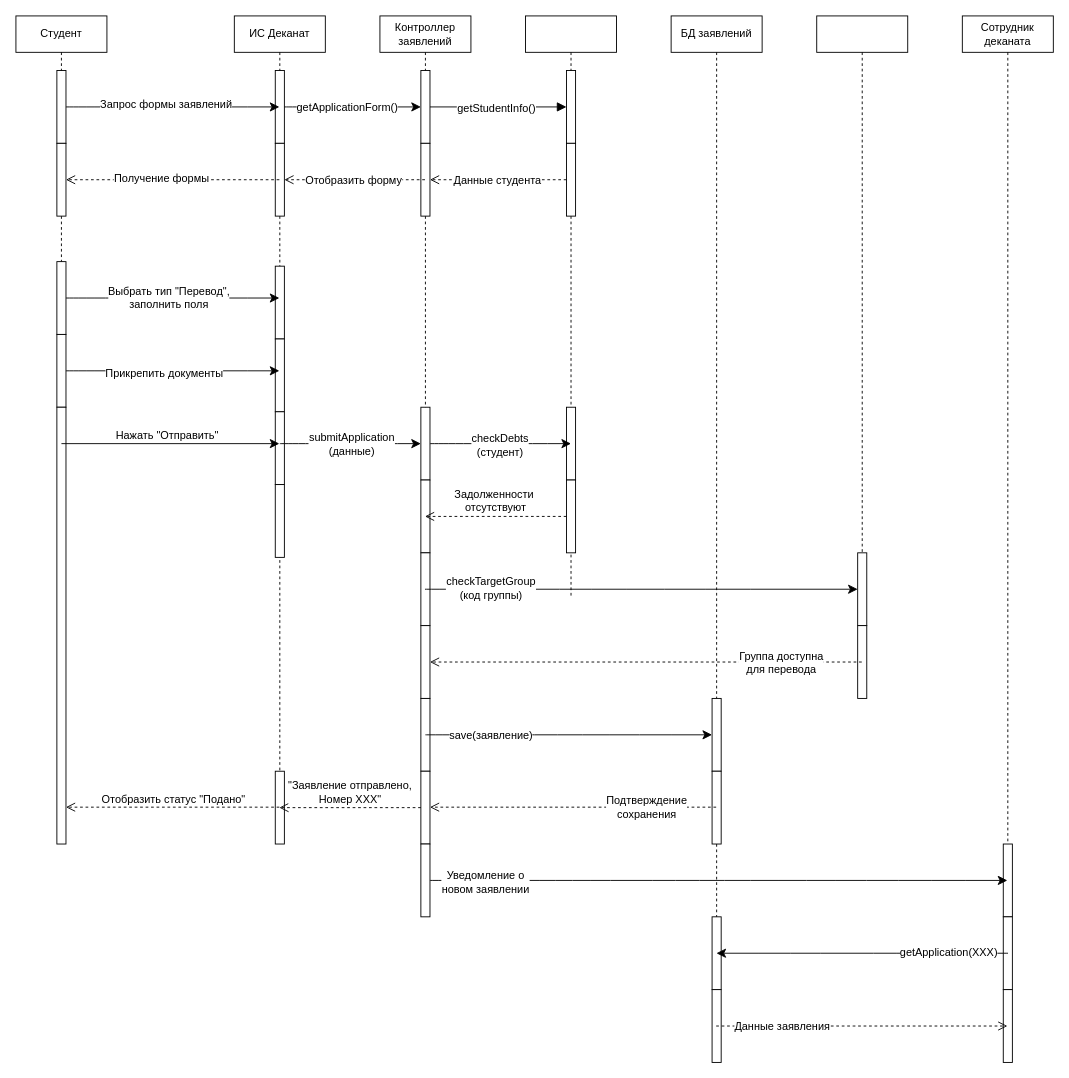
Some shapes in this 1069 by 1078 pixel diagram are drawn without their labels. Each missing label, with the box of its shape:
БД Студентов: (525, 15, 617, 598)
БД Учебных планов: (816, 15, 908, 698)
